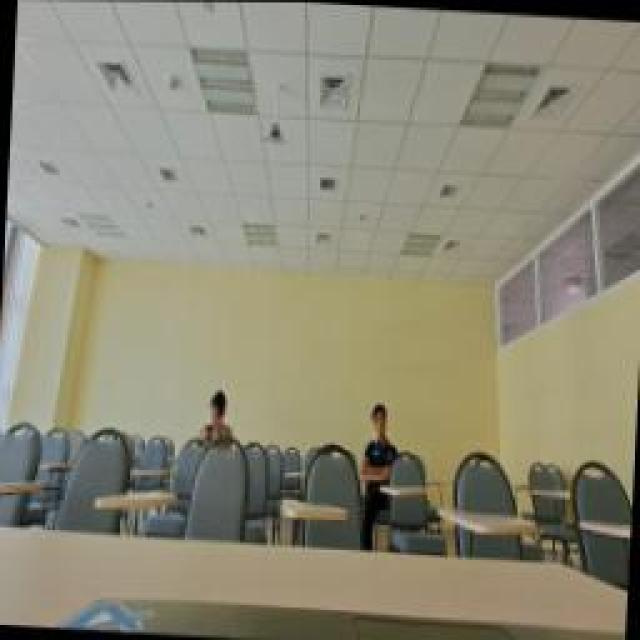phone: (195, 388, 233, 450)
study: (360, 403, 402, 475)
